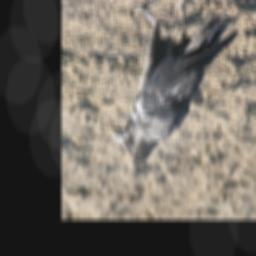Crow: (111, 0, 240, 166)
